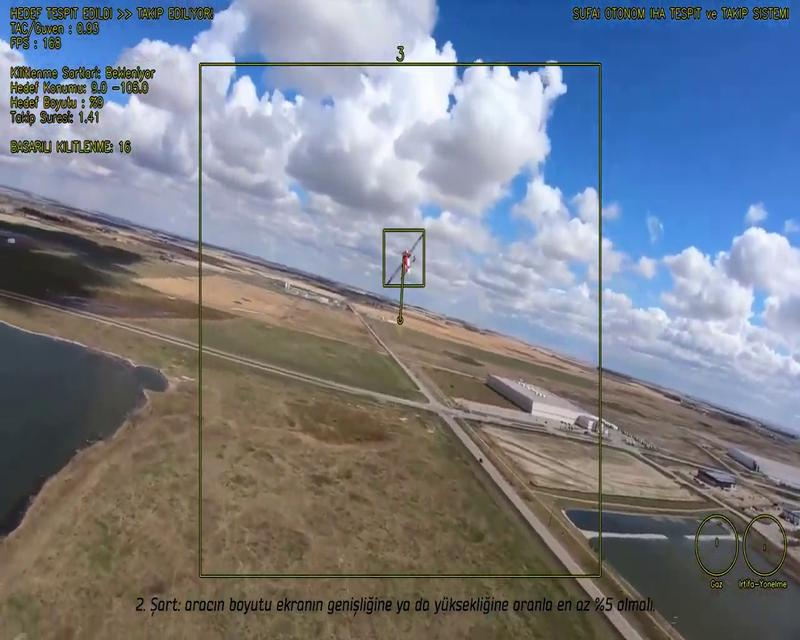UAV: (386, 233, 424, 284)
